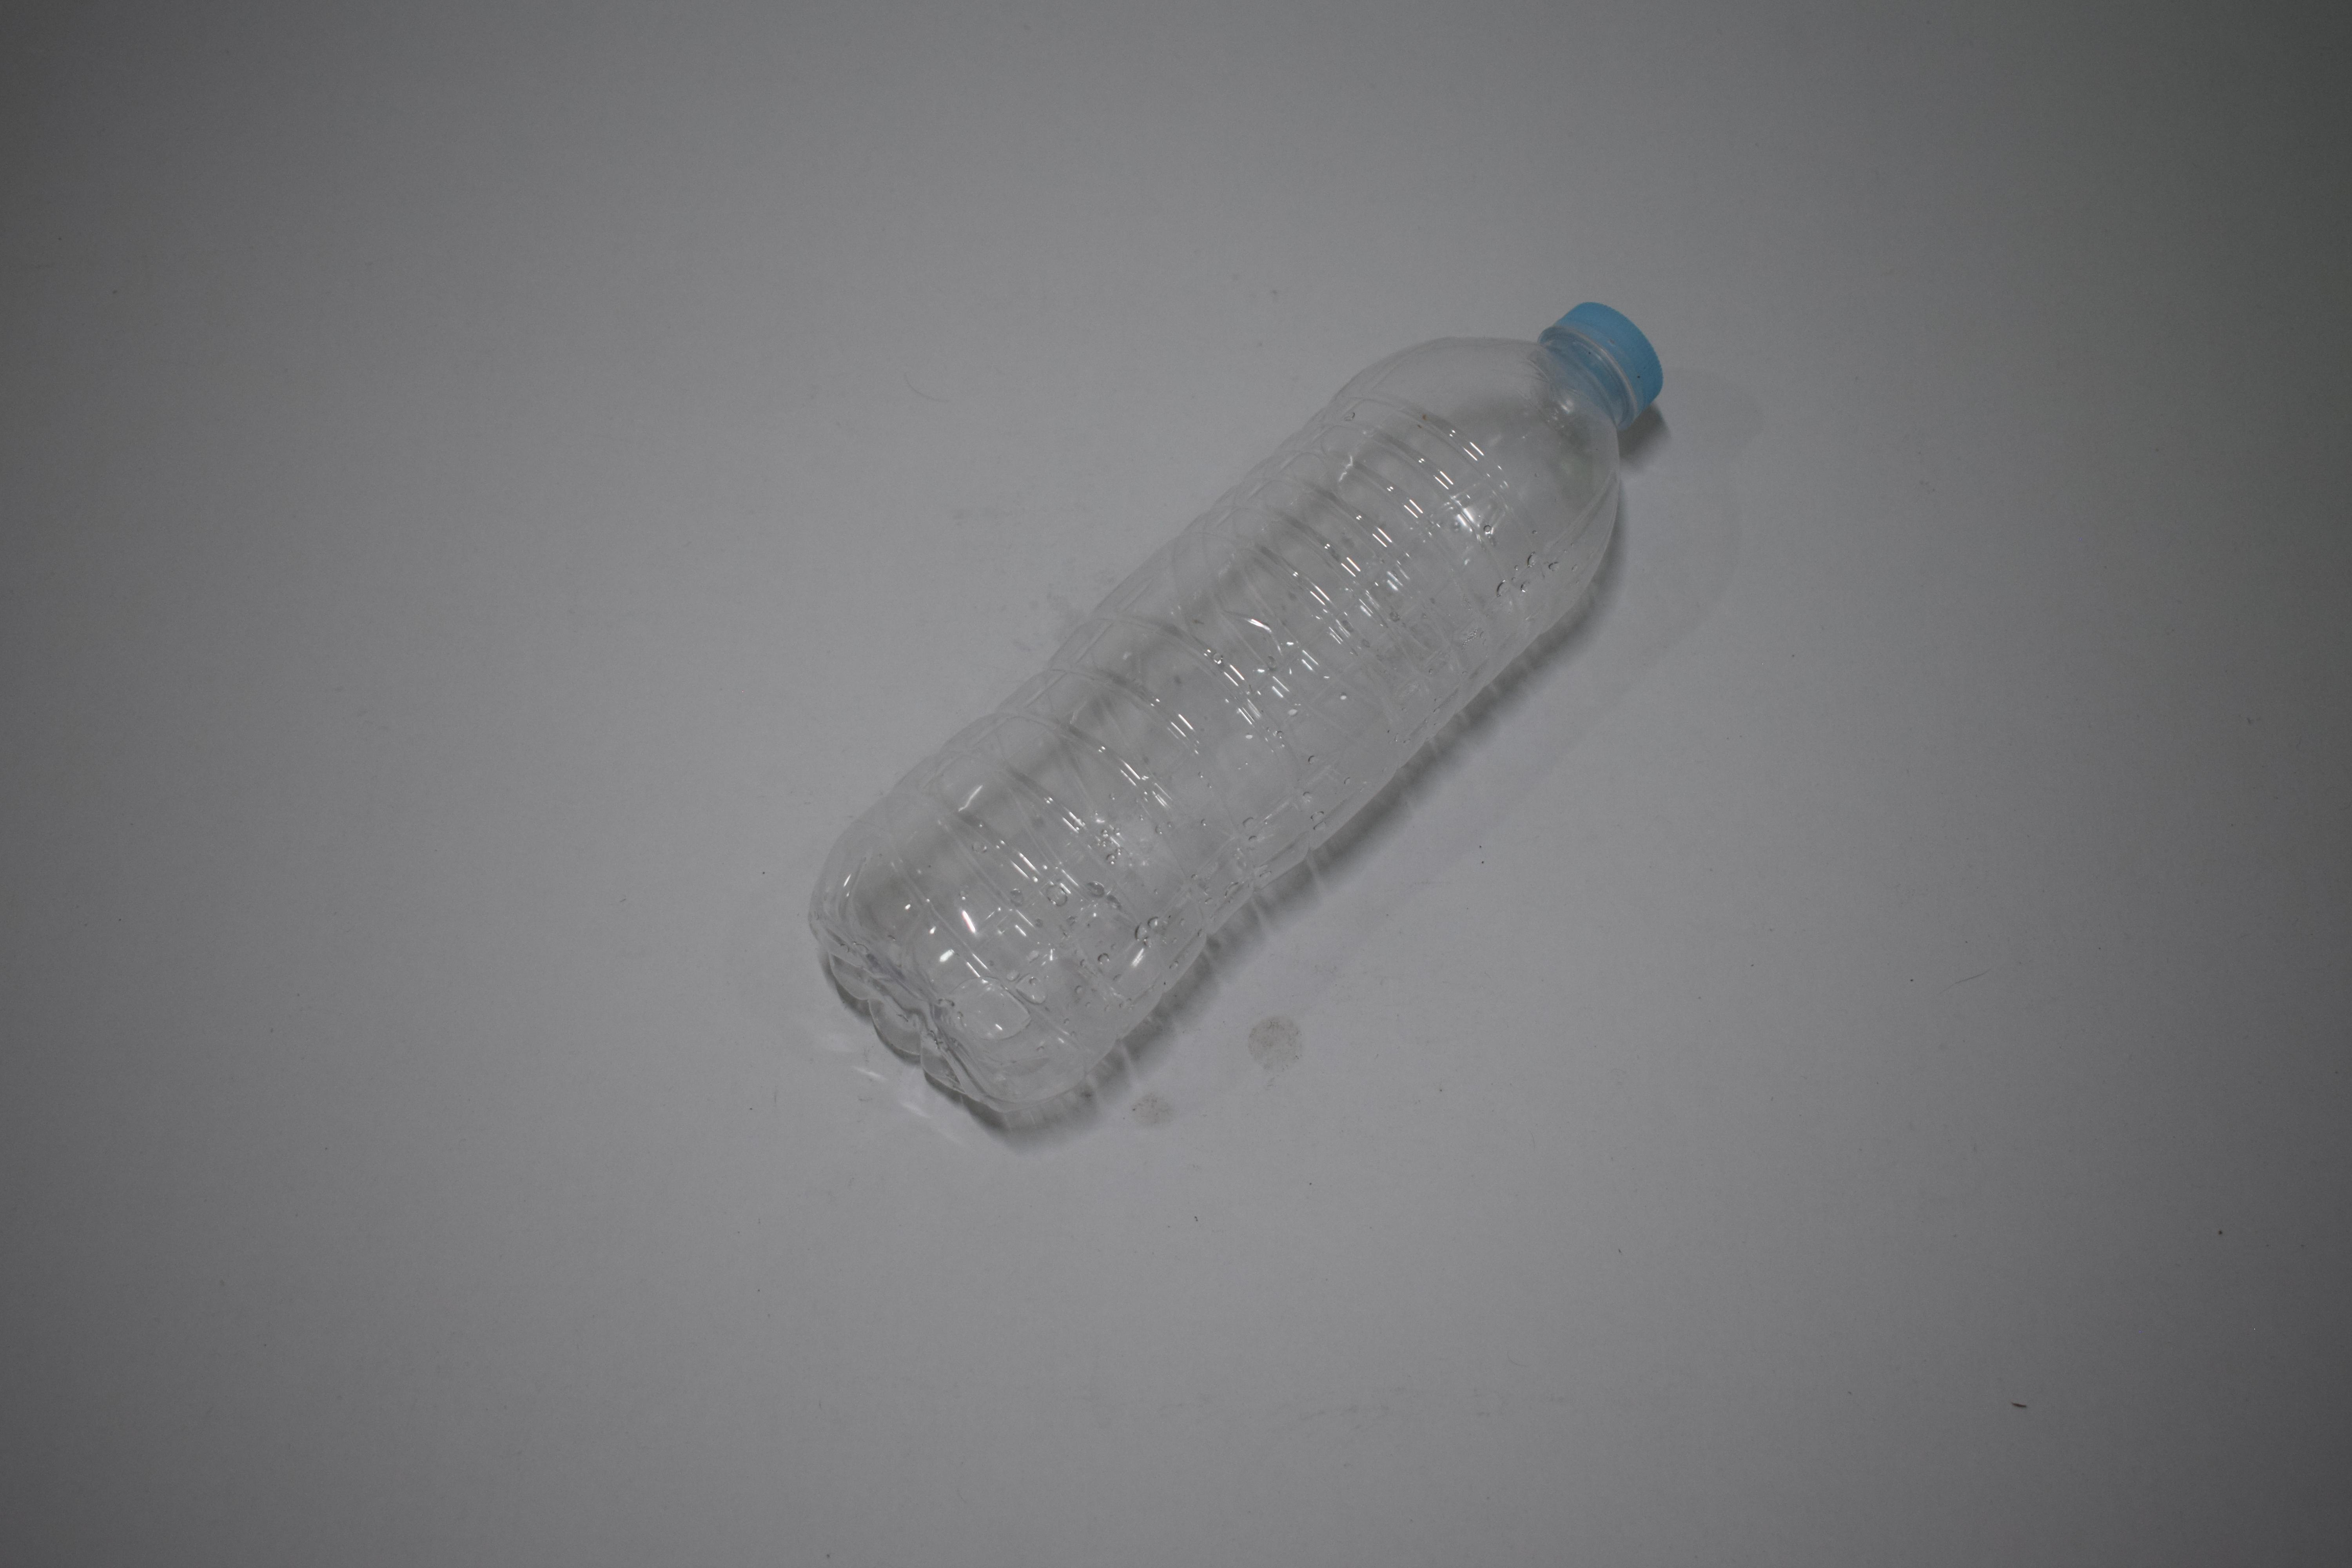bottle: (0, 604, 478, 670)
